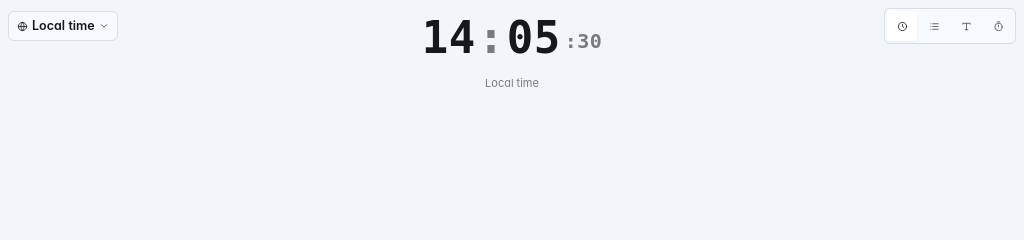
Test case: AC-CLOCK: ClockWidget › AC-CLOCK-2: clicking each of 4 style buttons swaps rendered content
The width and height of the screenshot is (1024, 240).
Click the button named "Split" at (934, 26), box [919,11,949,41]
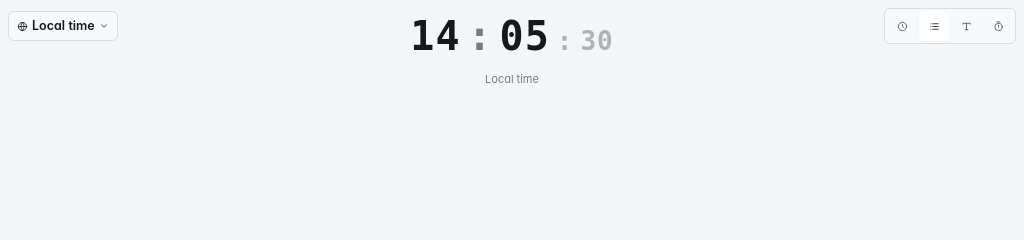
Expected: the element with test id "clock-split" is shown, [410,16,614,56]
Click the button named "Minimal" at (966, 26), box [951,11,981,41]
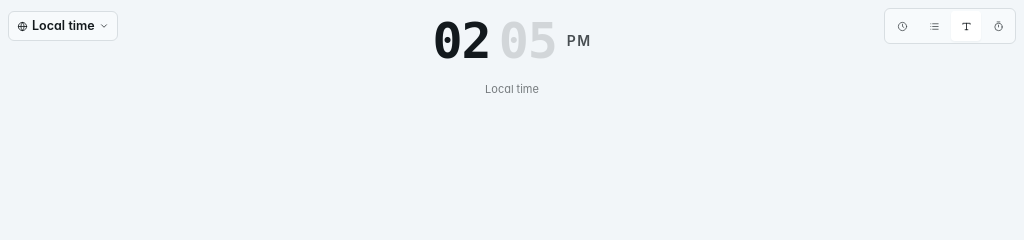
Expected: the element with test id "clock-split" is shown, [432,16,592,66]
Click the button named "Analog" at (998, 26), box [983,11,1013,41]
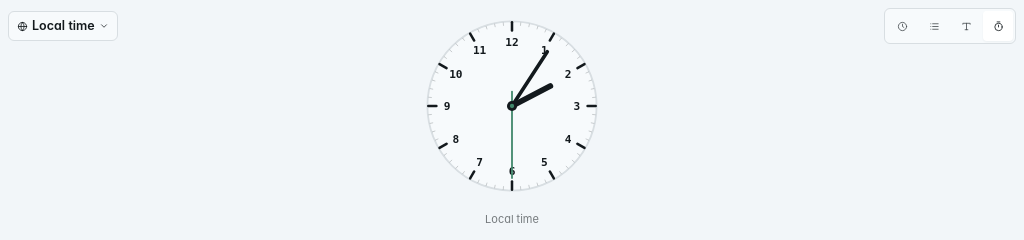
Now the picture with test id "clock-analog" is shown, box [422,16,602,196]
Click the button named "Classic" at (902, 26), box [887,11,917,41]
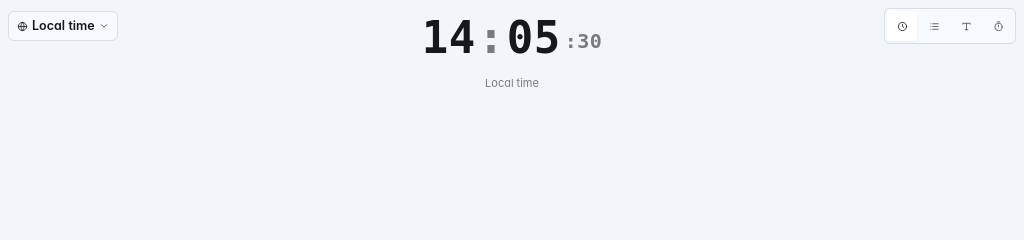
Now the element with test id "clock-classic" is shown, box [422,16,602,60]
